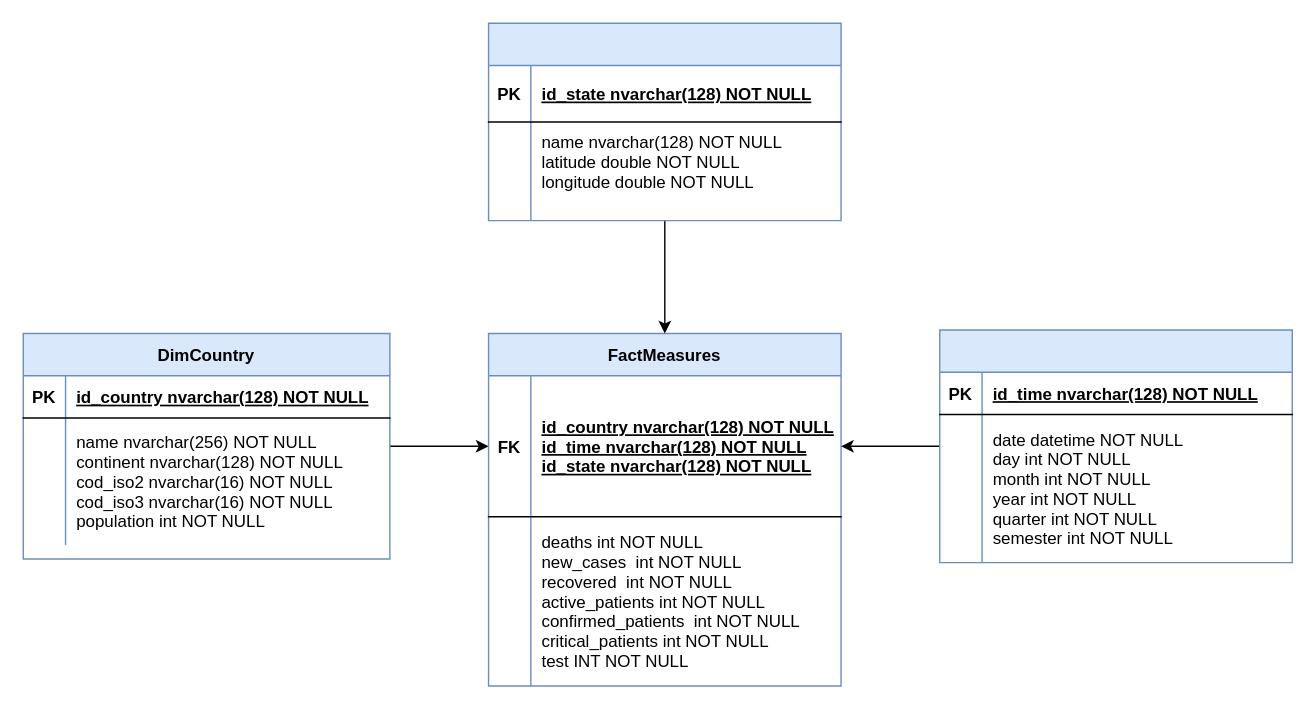
Some shapes in this 1316 by 709 pixel diagram are drawn without their labels. Each missing label, with the box of its shape:
DimState: (487, 22, 841, 221)
DimTime: (938, 329, 1292, 563)
